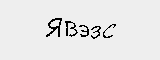В: (63, 18, 78, 40)
З: (90, 20, 102, 43)
С: (101, 20, 118, 42)
Э: (79, 22, 90, 42)
Я: (43, 15, 63, 40)
